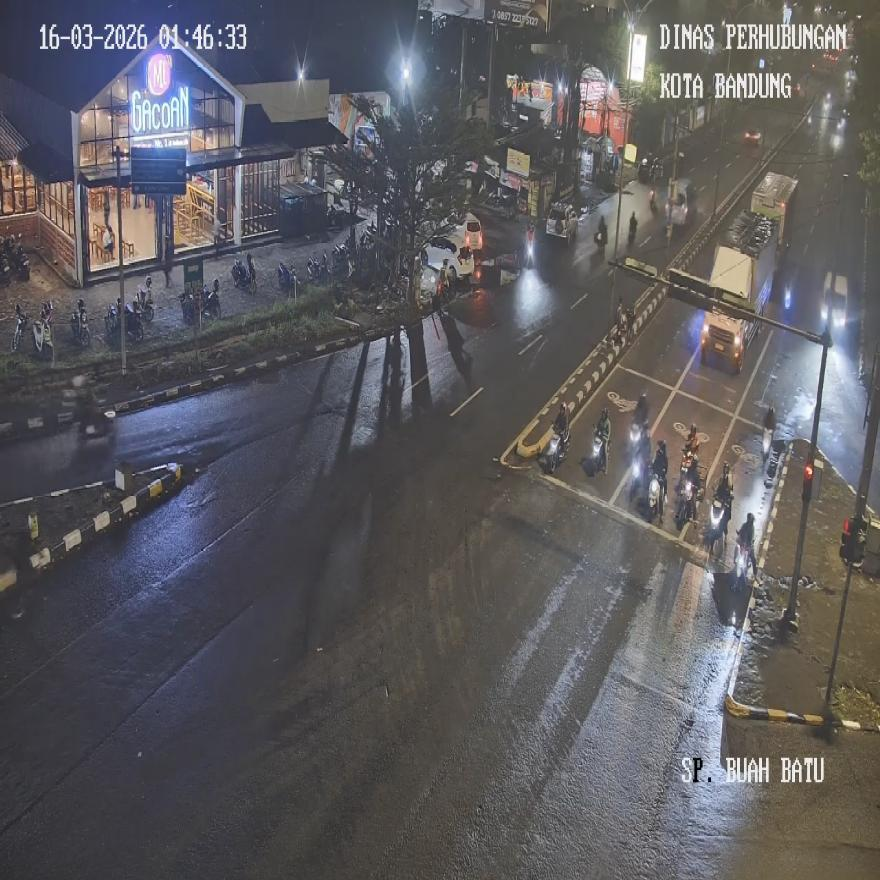Truk: (627, 420, 649, 498), (705, 492, 728, 560), (540, 423, 568, 473), (674, 469, 698, 526), (32, 302, 54, 357), (732, 535, 754, 589), (123, 292, 144, 342), (231, 253, 256, 293), (647, 467, 665, 522), (70, 300, 90, 348), (332, 238, 354, 281), (202, 278, 222, 322), (591, 426, 608, 476), (761, 404, 776, 460), (181, 284, 201, 325), (12, 304, 29, 352), (307, 250, 330, 284), (276, 260, 297, 297), (140, 275, 154, 324), (104, 298, 120, 339), (526, 222, 536, 266), (594, 214, 606, 247), (627, 211, 637, 247)
